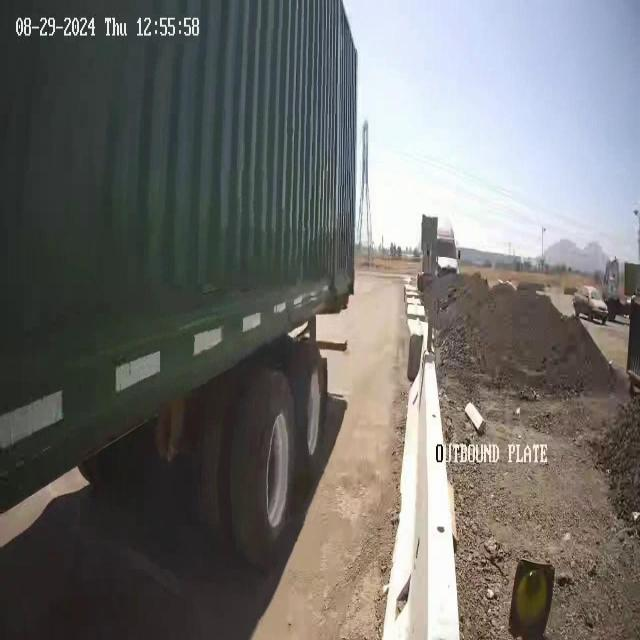TRUCK_CONTAINER: (1, 1, 359, 570)
